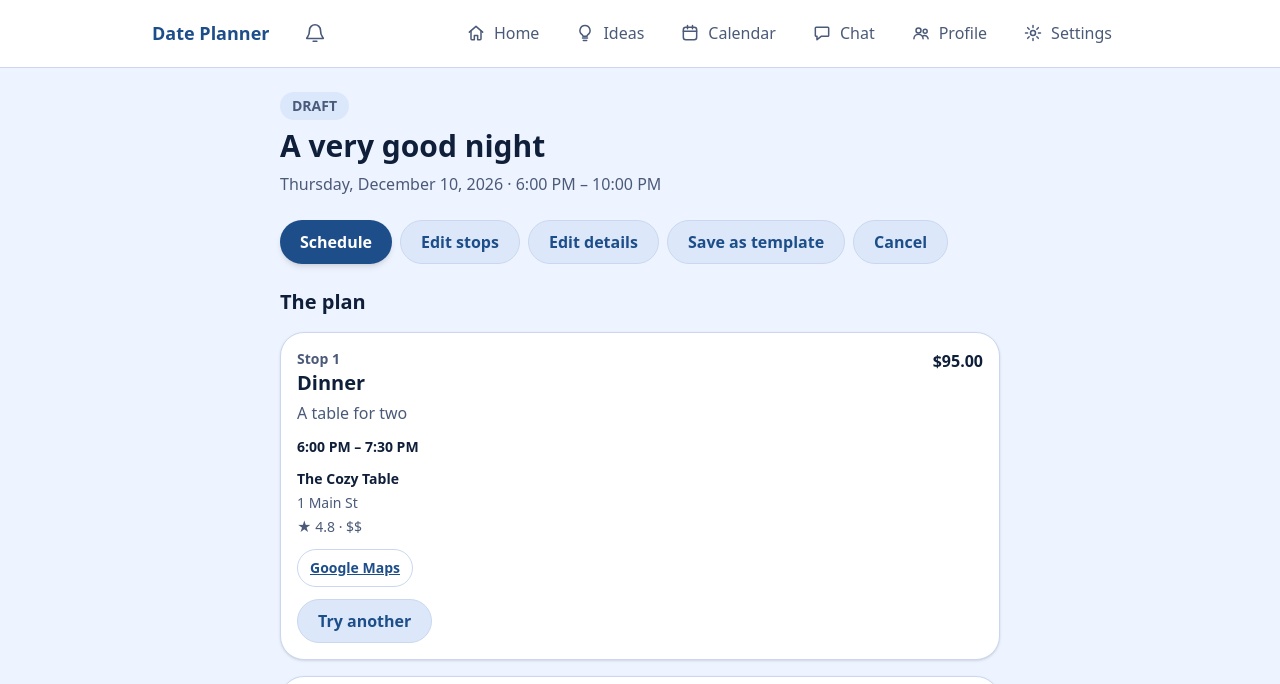
Test case: ItineraryPage editing › reorders stops and saves the full ordered list
Click the button "Edit stops".
click(460, 242)  # box [400,220,520,264]
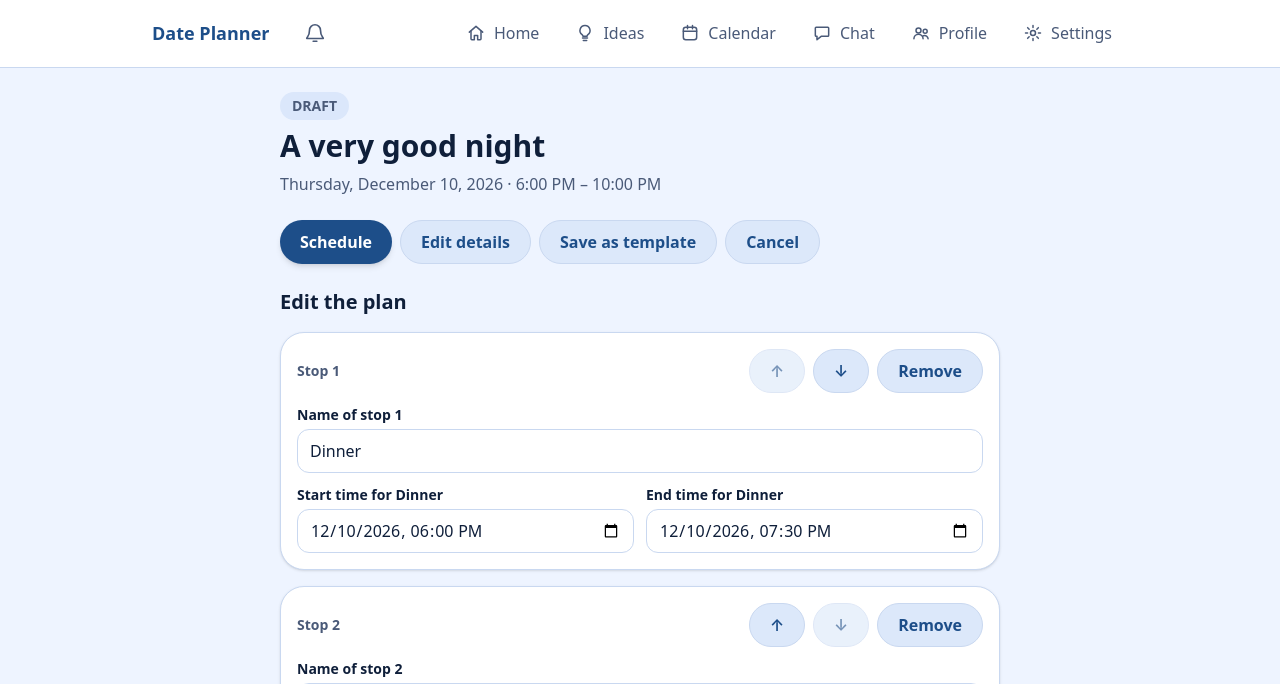
Now the button named "Move Dinner up" is disabled, box [749,349,805,393]
Click the button named "Move Dinner down".
click(841, 371)  # box [813,349,869,393]
(page scrolled)
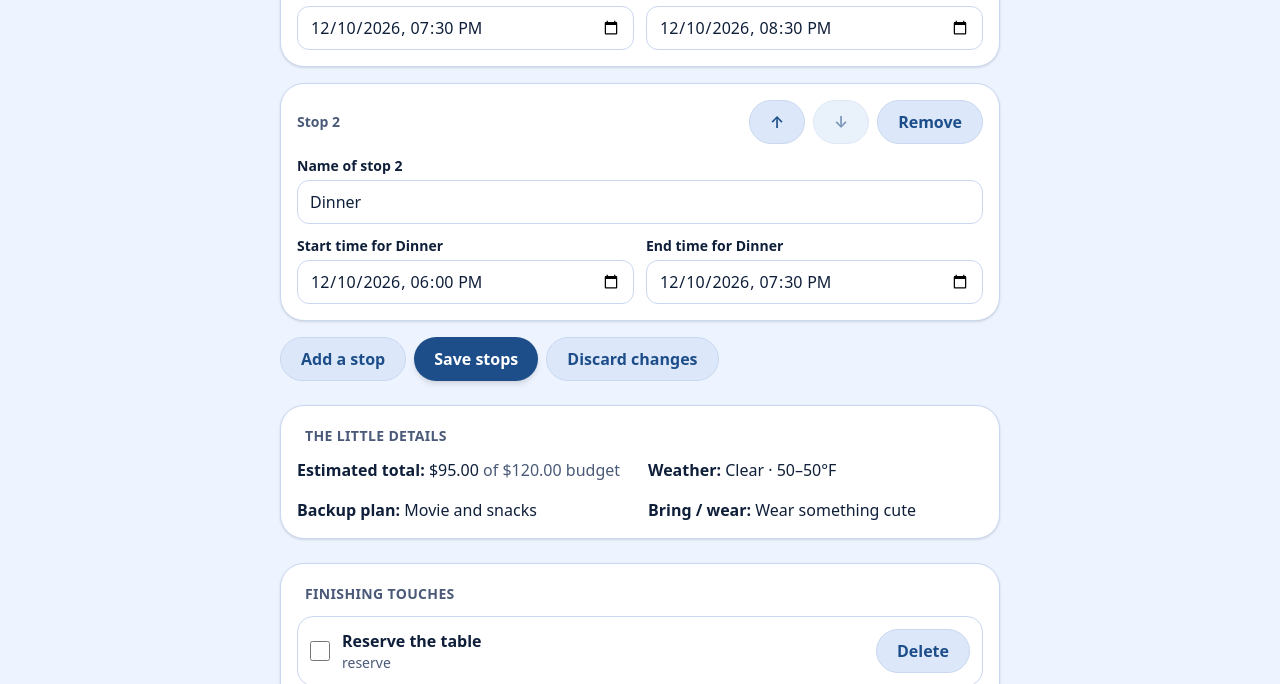
Click the button "Save stops".
click(476, 359)  # box [414,337,538,381]
(page scrolled)
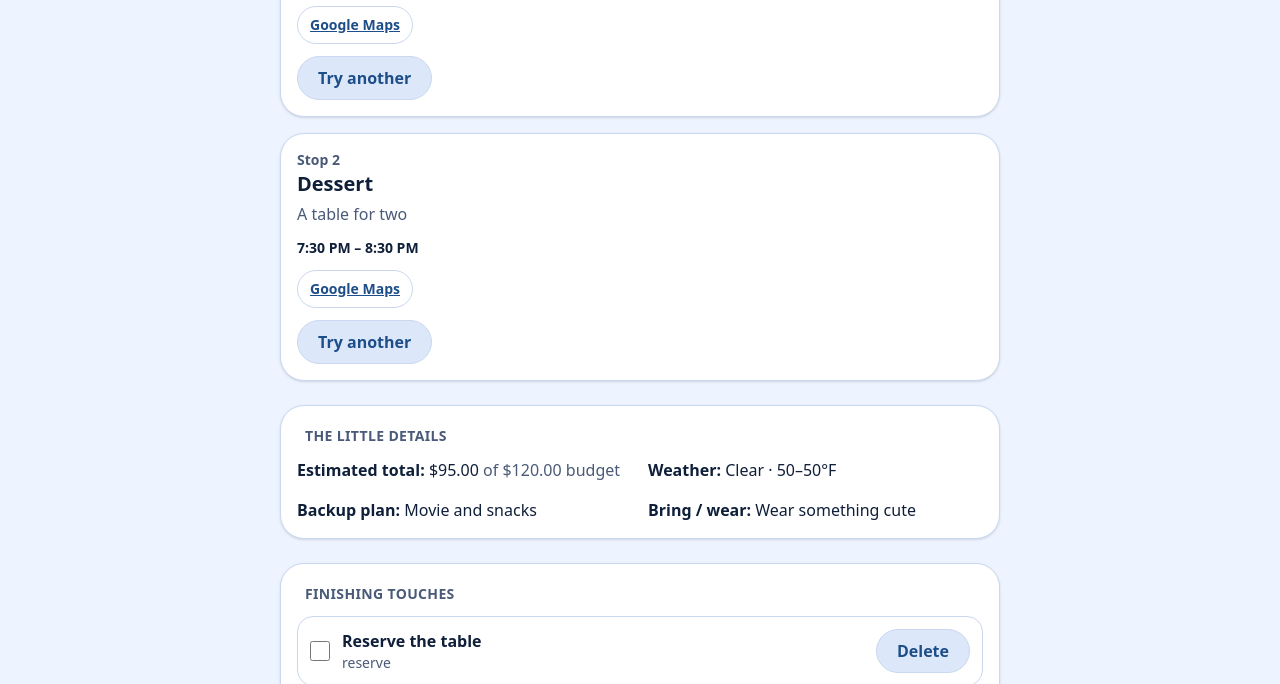
Now the button "Save stops" is gone
